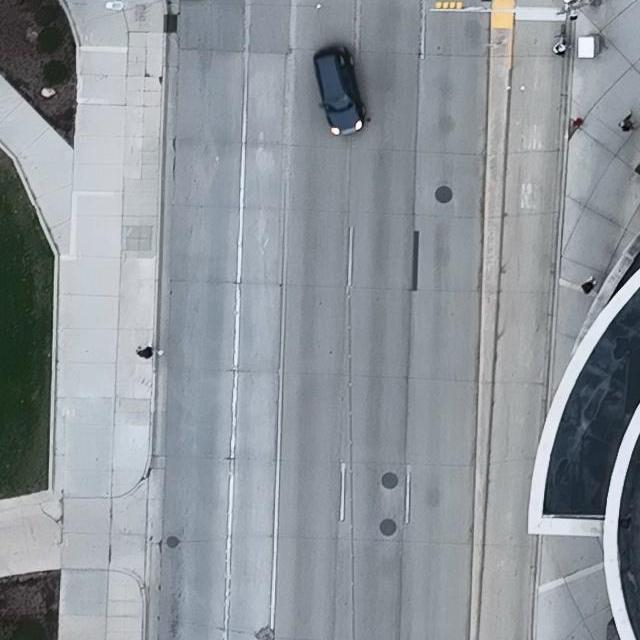car: (313, 43, 366, 137)
